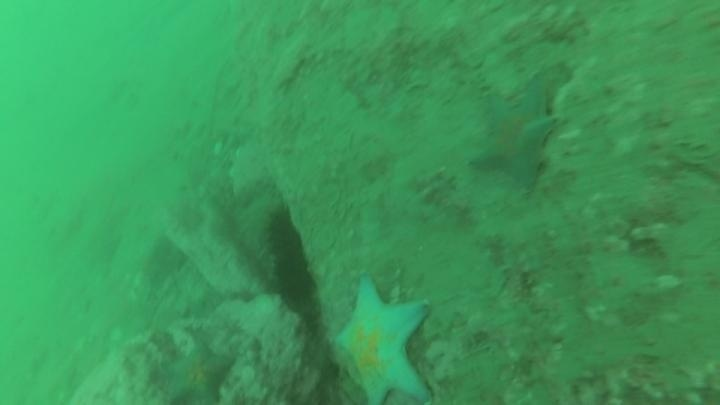echinus: (258, 206, 308, 257), (271, 253, 318, 304)
starfish: (327, 272, 434, 405), (465, 74, 562, 195), (157, 337, 237, 405)
